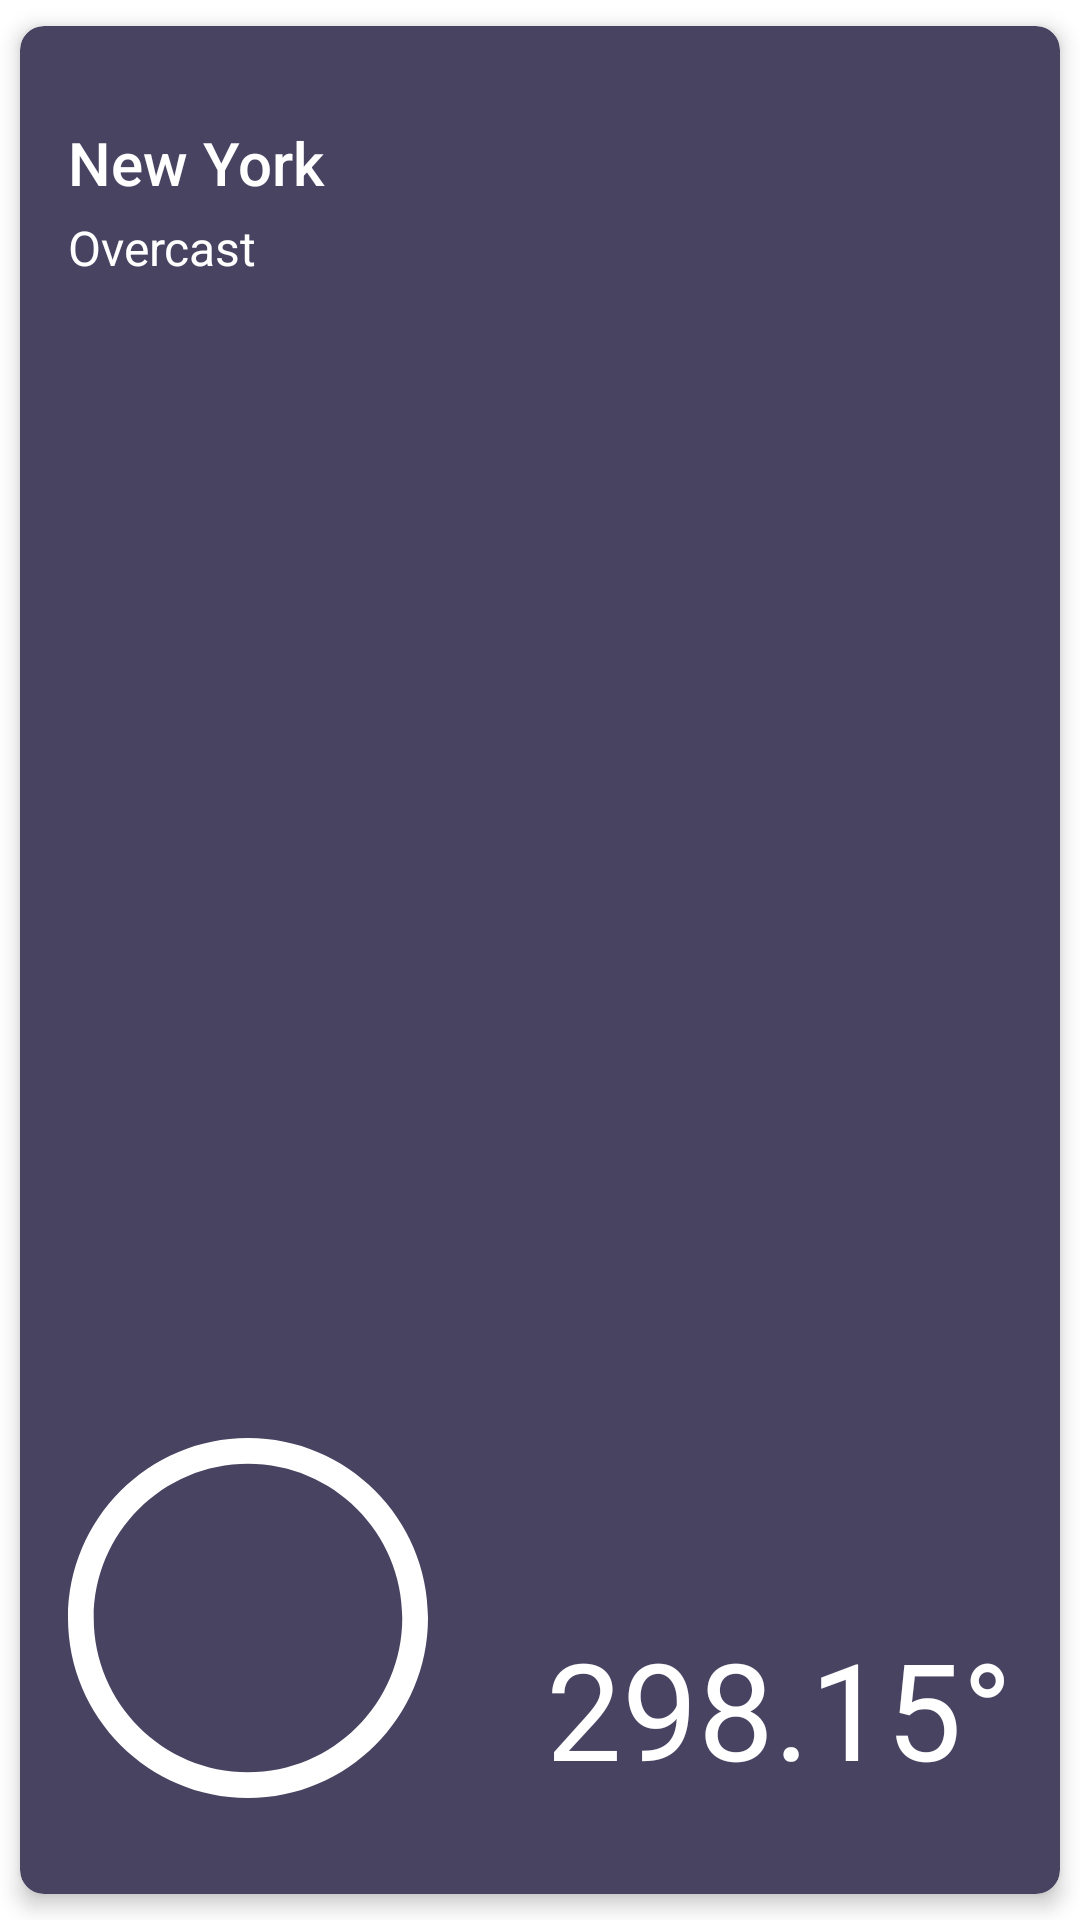

Named icons in this screenshot (1080 x 1920) and their centers, (x=x, y=y):
clear sky: (x=248, y=1618)
